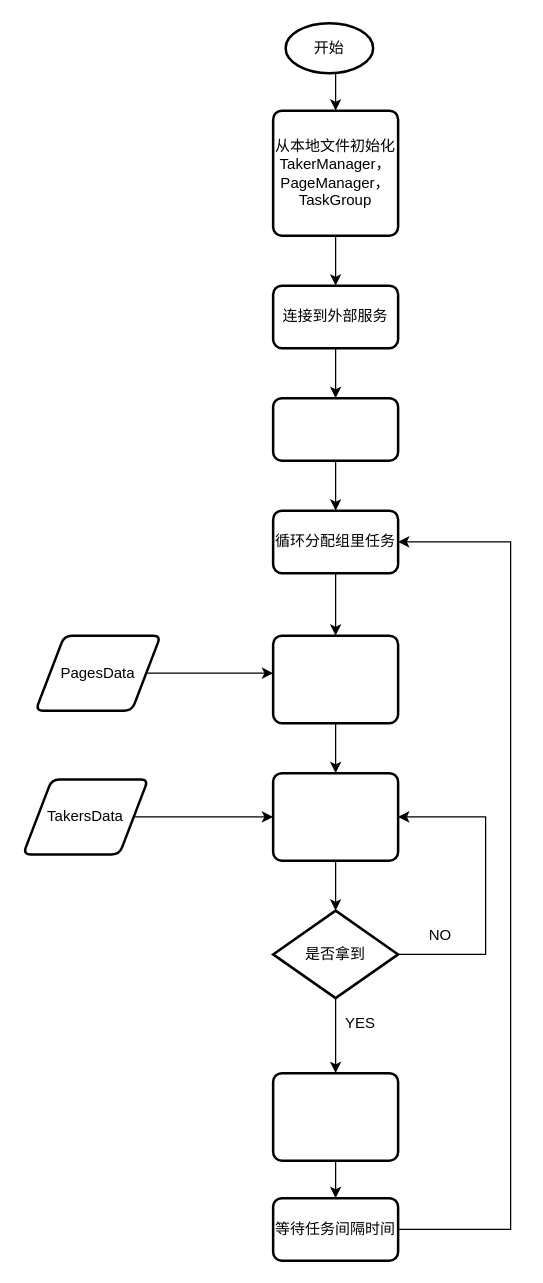
The diagram is 543 pixels wide and 1283 high, and some of its shapes have lost their labels. The shapes that lost their labels are listed below. From the top down, each one's centre as x and y in pixels, then its label:
the point at 335,428: 启动TaskGroup分配任务工作线程
the point at 335,679: 根据PageID通过PageManager获得Page任务
the point at 335,816: 尝试通过TakerManager获取可用Taker
the point at 335,1116: 将Page任务分配给拿到的Taker执行数据采集活动
